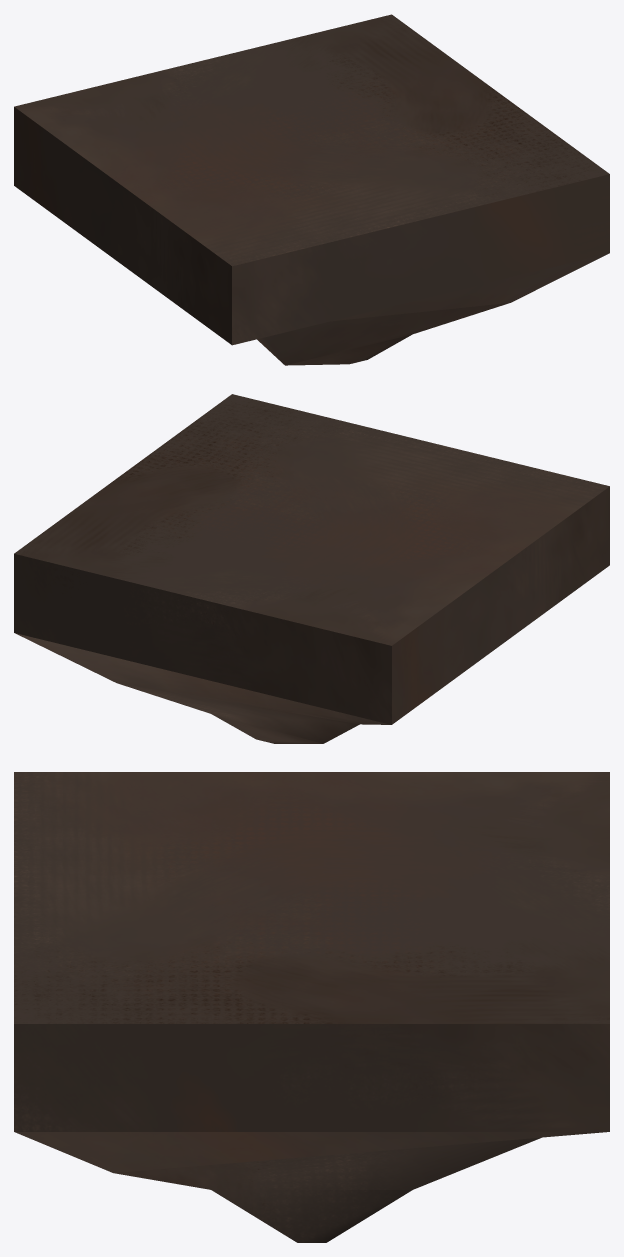
Rendered from Light_Platform.fbx.
The picture shows the model from 3 angles, top to bottom: view 1: azimuth 30°, elevation 25°; view 2: azimuth 150°, elevation 25°; view 3: azimuth 270°, elevation 25°; orthographic projection. The views are drawn at different scales.
Visible parts, largest first — view 1: Light_Platform; view 2: Light_Platform; view 3: Light_Platform.
Part boxes in pixels (x1,y1,x2,y2): Light_Platform: [14, 14, 609, 365]; Light_Platform: [14, 394, 609, 743]; Light_Platform: [14, 772, 609, 1242].
Size of the model in its own units: 150 by 86.46 by 150.
Materials: 1 (1 with a texture image).
